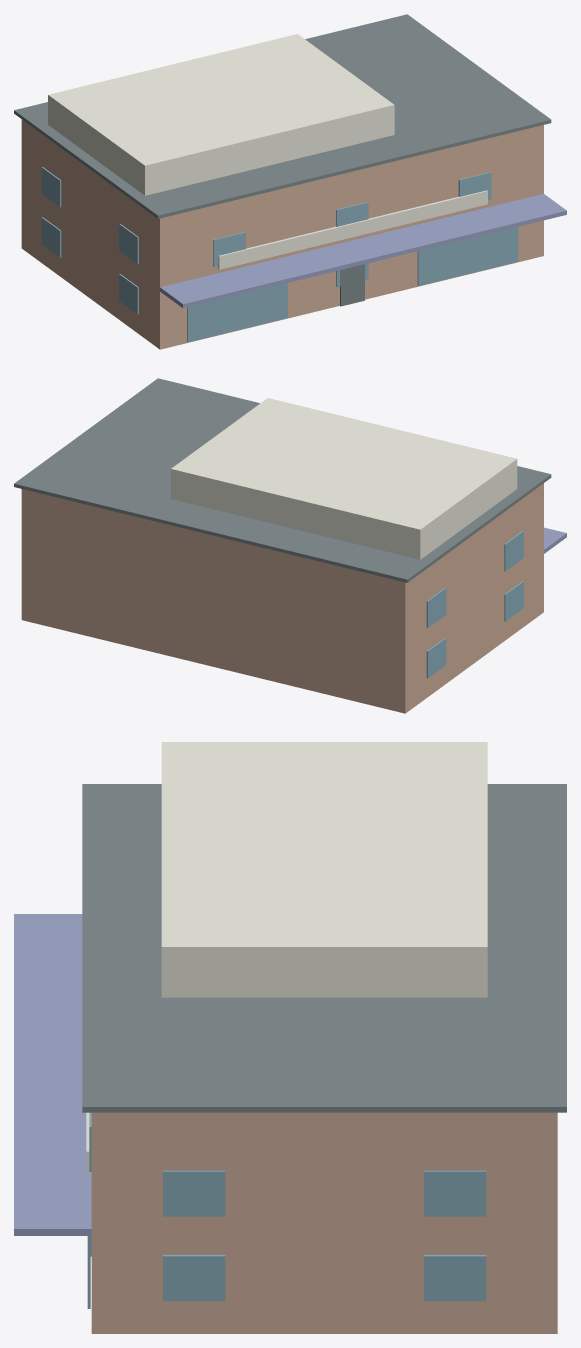
The picture shows the model from 3 angles, top to bottom: view 1: azimuth 30°, elevation 25°; view 2: azimuth 150°, elevation 25°; view 3: azimuth 270°, elevation 25°; orthographic projection. The views are drawn at different scales.
Bounding box in the file's own units: 24.6 × 10 × 17.8.
